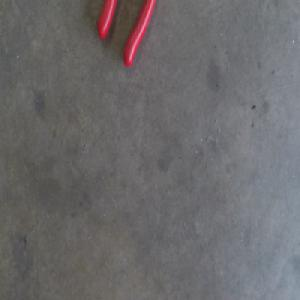Pliers: (98, 0, 158, 70)
